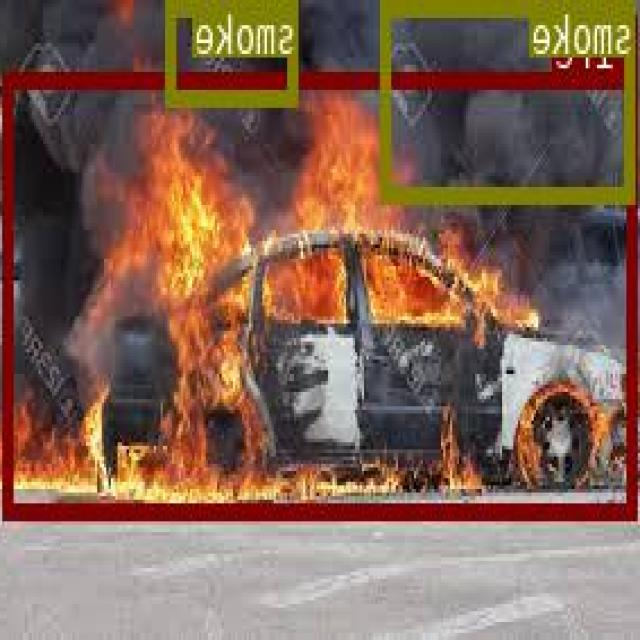fire: (6, 69, 639, 518)
smoke: (385, 0, 638, 201), (168, 0, 301, 104)
